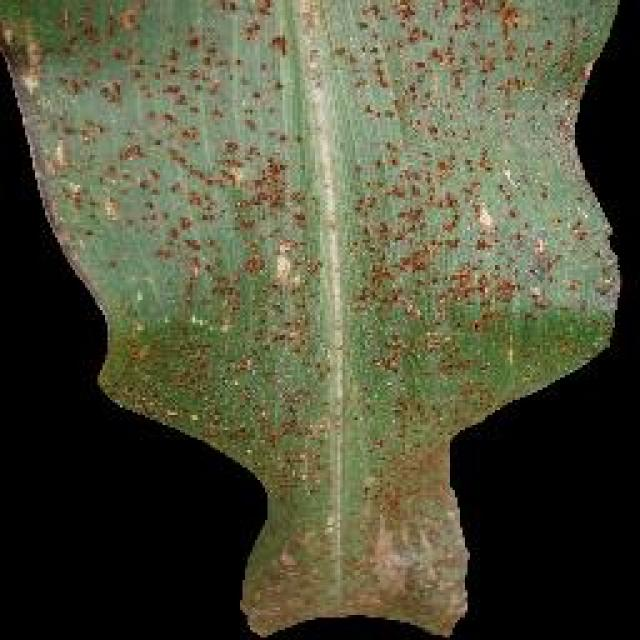Corn Common Rust: (85, 0, 481, 608)
